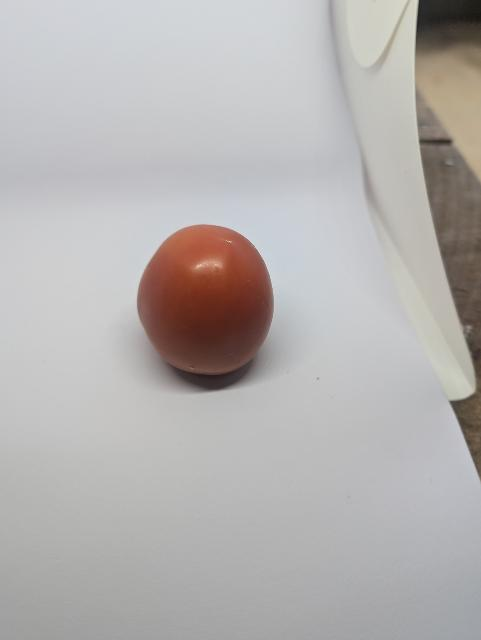red: (121, 218, 296, 396)
